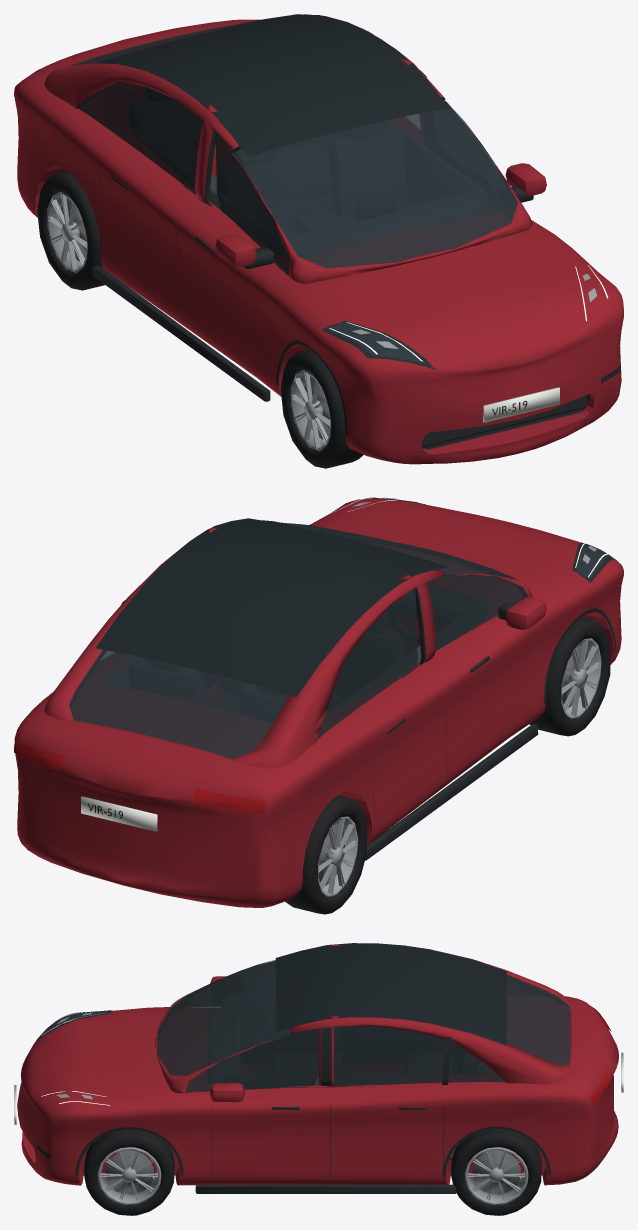
The picture shows the model from 3 angles, top to bottom: view 1: azimuth 30°, elevation 25°; view 2: azimuth 150°, elevation 25°; view 3: azimuth 270°, elevation 25°; orthographic projection. The views are drawn at different scales.
Parts seen in each view (by area): view 1: body, glazing_windscreen, glazing_rear-1, wheel_FL, wheel_RL, glazing_front-1, glazing_rear_glass; view 2: body, glazing_rear_glass, glazing_rear-1, wheel_RL, wheel_FL, glazing_front-1, glazing_windscreen; view 3: body, glazing_windscreen, glazing_rear1, wheel_FR, wheel_RR, glazing_front1, glazing_rear_glass.
Boxes of the visible parts, x1=… form: body: x1=14, y1=14, x2=623, y2=464; glazing_windscreen: x1=232, y1=101, x2=517, y2=268; glazing_rear-1: x1=77, y1=81, x2=203, y2=193; wheel_FL: x1=280, y1=349, x2=363, y2=468; wheel_RL: x1=37, y1=171, x2=104, y2=290; glazing_front-1: x1=215, y1=132, x2=290, y2=273; glazing_rear_glass: x1=73, y1=22, x2=252, y2=65; body: x1=14, y1=497, x2=623, y2=907; glazing_rear_glass: x1=69, y1=650, x2=289, y2=759; glazing_rear-1: x1=317, y1=588, x2=417, y2=739; wheel_RL: x1=285, y1=795, x2=367, y2=914; wheel_FL: x1=529, y1=617, x2=610, y2=736; glazing_front-1: x1=427, y1=574, x2=526, y2=650; glazing_windscreen: x1=272, y1=522, x2=512, y2=578; body: x1=14, y1=943, x2=623, y2=1193; glazing_windscreen: x1=157, y1=961, x2=290, y2=1075; glazing_rear1: x1=334, y1=1025, x2=505, y2=1085; wheel_FR: x1=84, y1=1129, x2=174, y2=1215; wheel_RR: x1=451, y1=1129, x2=541, y2=1215; glazing_front1: x1=186, y1=1028, x2=318, y2=1091; glazing_rear_glass: x1=507, y1=975, x2=569, y2=1065.
Bounding box in the file's own units: 2.16 × 1.65 × 4.8.
